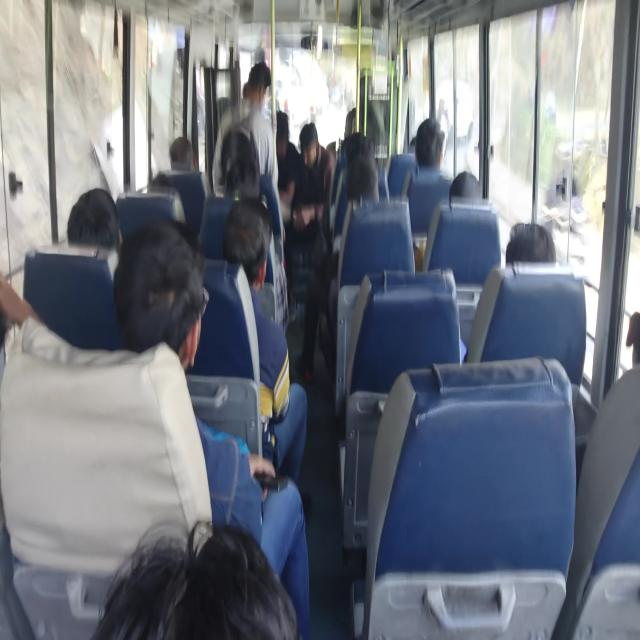person: (128, 481, 222, 640), (496, 209, 591, 320), (128, 226, 190, 343), (606, 292, 640, 385), (228, 191, 267, 261), (238, 52, 280, 110), (75, 186, 120, 240), (274, 108, 309, 170), (0, 260, 15, 400), (421, 110, 448, 187), (349, 156, 384, 212), (346, 128, 392, 170), (226, 135, 258, 189), (449, 166, 482, 218), (308, 126, 332, 166), (342, 131, 369, 161), (142, 174, 167, 206), (175, 138, 196, 174), (410, 130, 426, 152)
